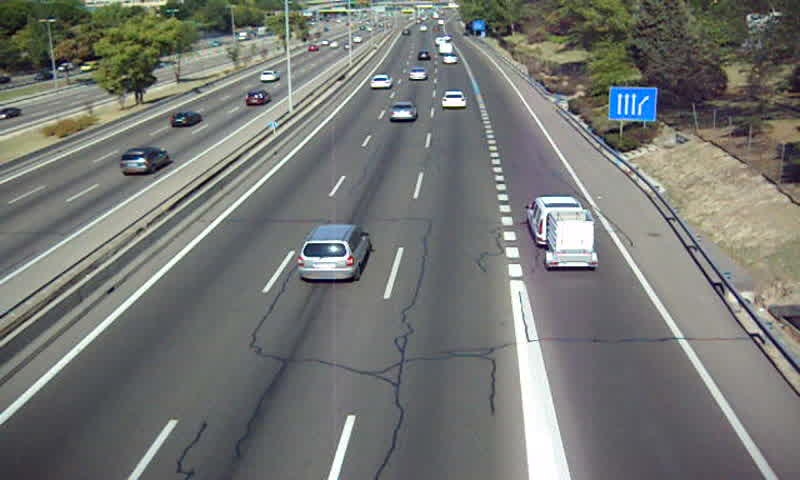car: (297, 224, 371, 282), (387, 101, 418, 123), (442, 90, 466, 110), (369, 74, 392, 90), (406, 67, 429, 82), (443, 53, 459, 64)
van: (525, 198, 585, 246)
